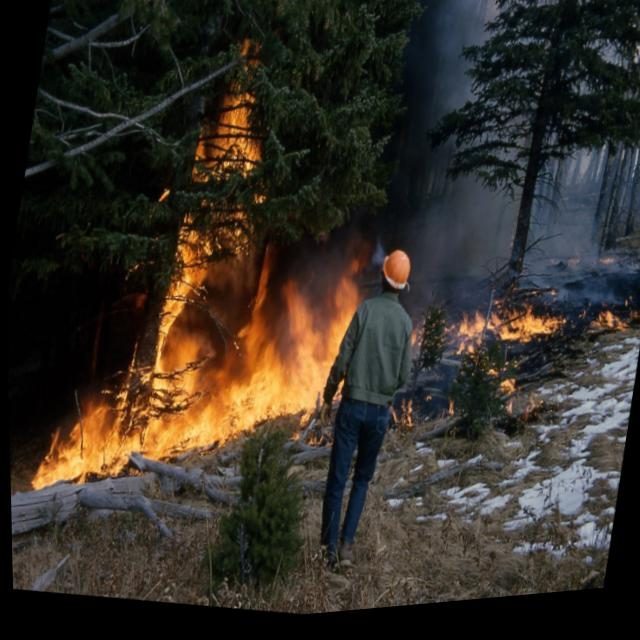Fire: (8, 0, 415, 558), (382, 230, 640, 483)
